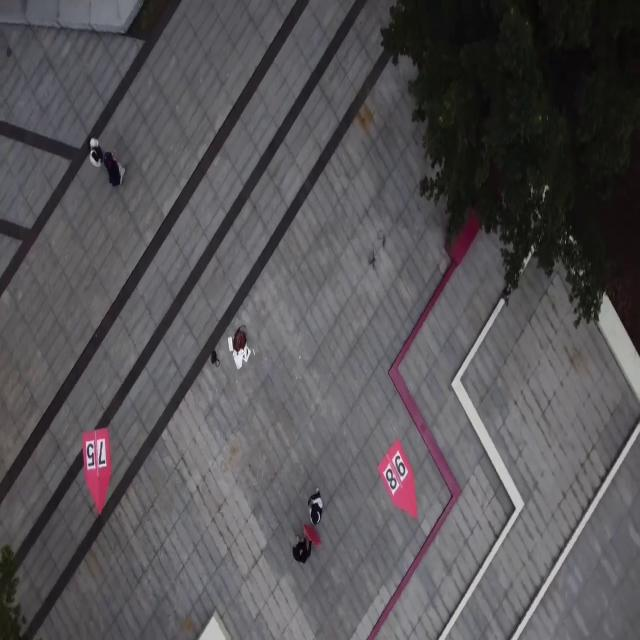-sign-: (376, 438, 418, 521), (82, 427, 111, 514)
